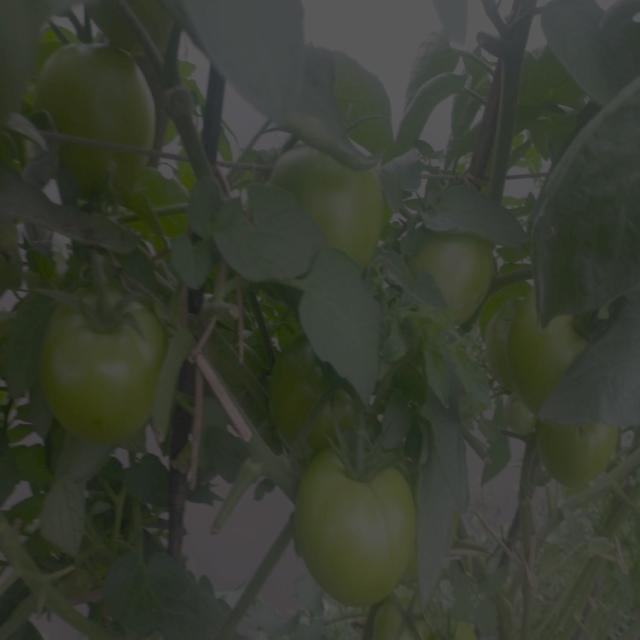tomato: (285, 449, 426, 603), (37, 285, 160, 440), (37, 38, 156, 198), (272, 143, 386, 254), (269, 345, 352, 449), (418, 230, 496, 327), (532, 422, 625, 500), (513, 295, 571, 397), (375, 599, 434, 640)
